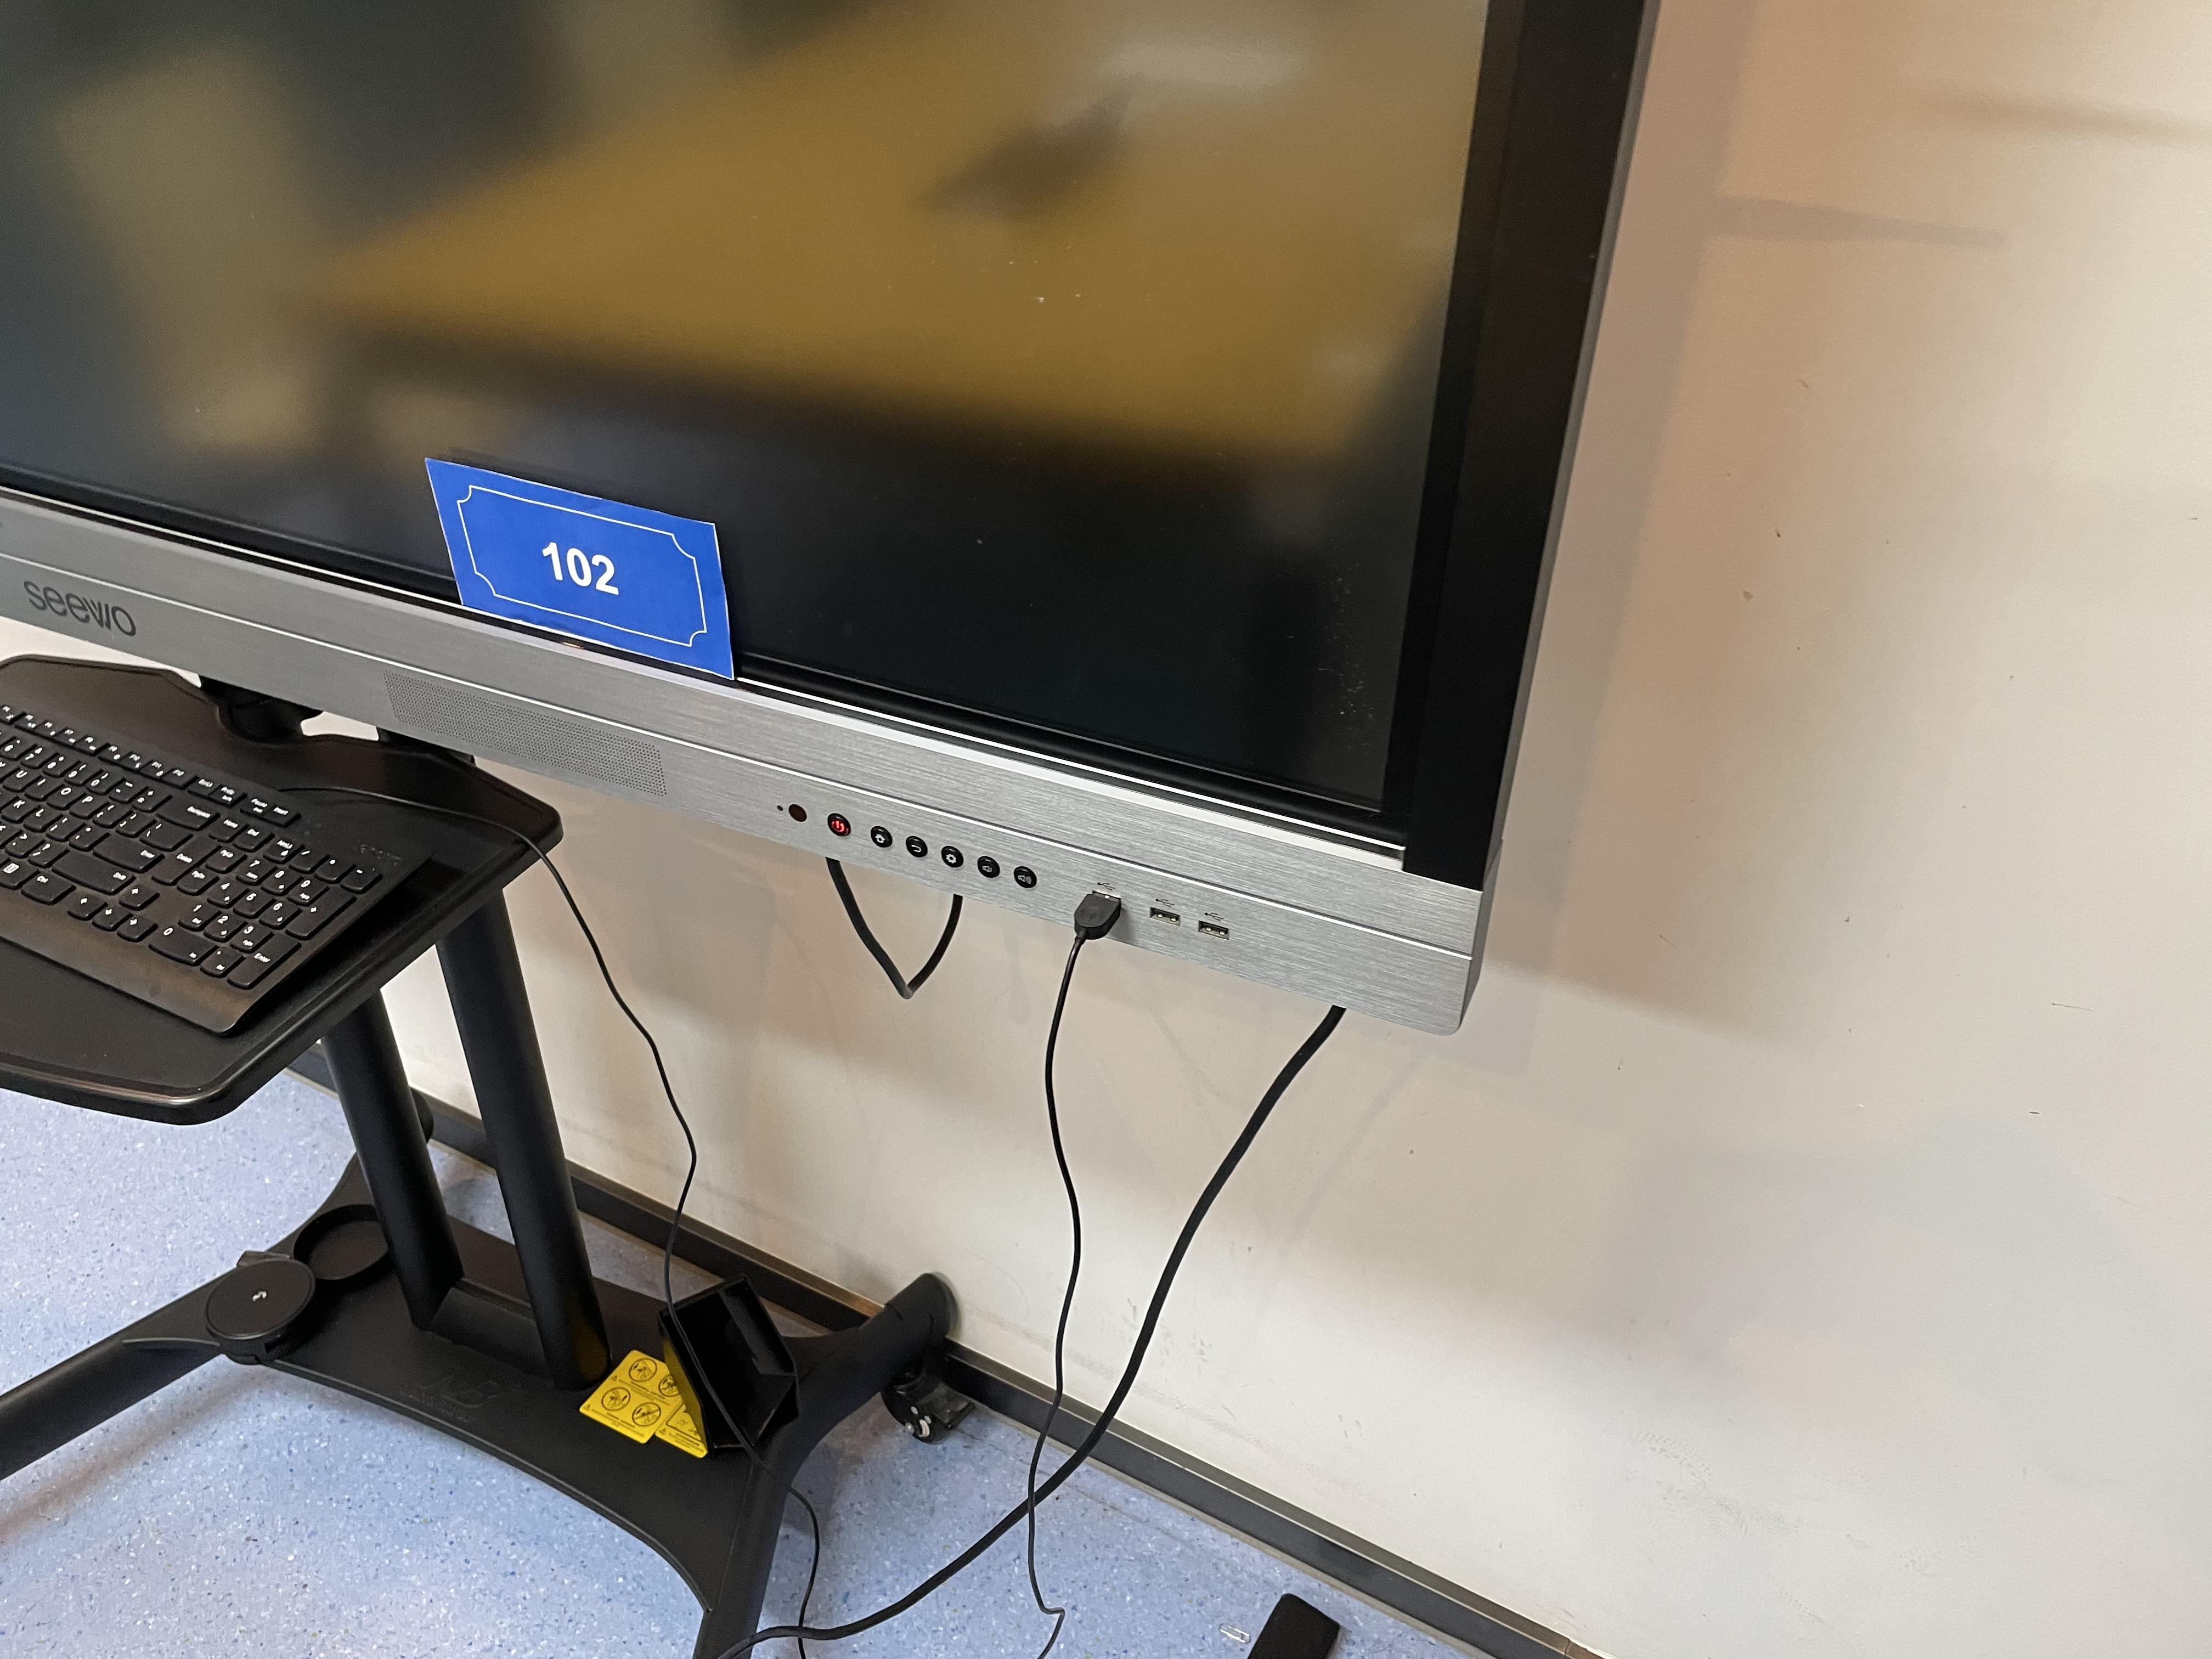Card: (394, 437, 747, 701)
